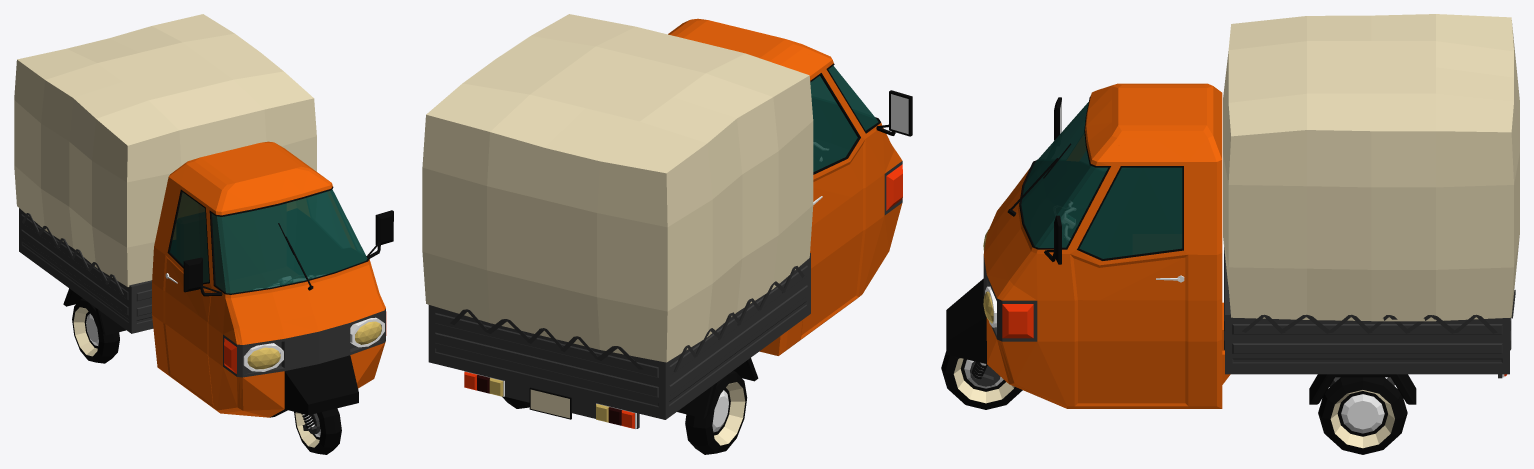
File: 3Wheeler_04.FBX
3 renders of one model, left to right at view 1: azimuth 30°, elevation 25°; view 2: azimuth 150°, elevation 25°; view 3: azimuth 270°, elevation 25°, orthographic. The views are drawn at different scales.
Visible parts, largest first — view 1: 3Wheeler_04, tarpaulin, interior, wheel_b-r, wheel_f, headLights, lights, mirror_r, mirror_l; view 2: tarpaulin, 3Wheeler_04, interior, wheel_b-r, mirror_r, licensePlate_b, indicatorLights_r; view 3: tarpaulin, 3Wheeler_04, interior, wheel_b-l, wheel_f, indicatorLights_l.
Boxes of the visible parts, x1=… form: 3Wheeler_04: x1=19, y1=141, x2=385, y2=417; tarpaulin: x1=14, y1=14, x2=316, y2=294; interior: x1=170, y1=190, x2=366, y2=293; wheel_b-r: x1=72, y1=298, x2=119, y2=363; wheel_f: x1=294, y1=408, x2=341, y2=454; headLights: x1=247, y1=321, x2=381, y2=369; lights: x1=243, y1=317, x2=384, y2=371; mirror_r: x1=183, y1=257, x2=222, y2=296; mirror_l: x1=367, y1=210, x2=393, y2=258; tarpaulin: x1=422, y1=14, x2=813, y2=372; 3Wheeler_04: x1=428, y1=18, x2=902, y2=428; interior: x1=808, y1=54, x2=877, y2=171; wheel_b-r: x1=685, y1=370, x2=747, y2=454; mirror_r: x1=876, y1=90, x2=912, y2=136; licensePlate_b: x1=529, y1=387, x2=571, y2=419; indicatorLights_r: x1=621, y1=164, x2=902, y2=428; tarpaulin: x1=1223, y1=14, x2=1519, y2=333; 3Wheeler_04: x1=946, y1=83, x2=1511, y2=408; interior: x1=1021, y1=102, x2=1182, y2=258; wheel_b-l: x1=1318, y1=377, x2=1407, y2=454; wheel_f: x1=941, y1=351, x2=1022, y2=409; indicatorLights_l: x1=1002, y1=304, x2=1506, y2=376.
Size of the model in its own units: 14.34 by 17.69 by 27.18.
